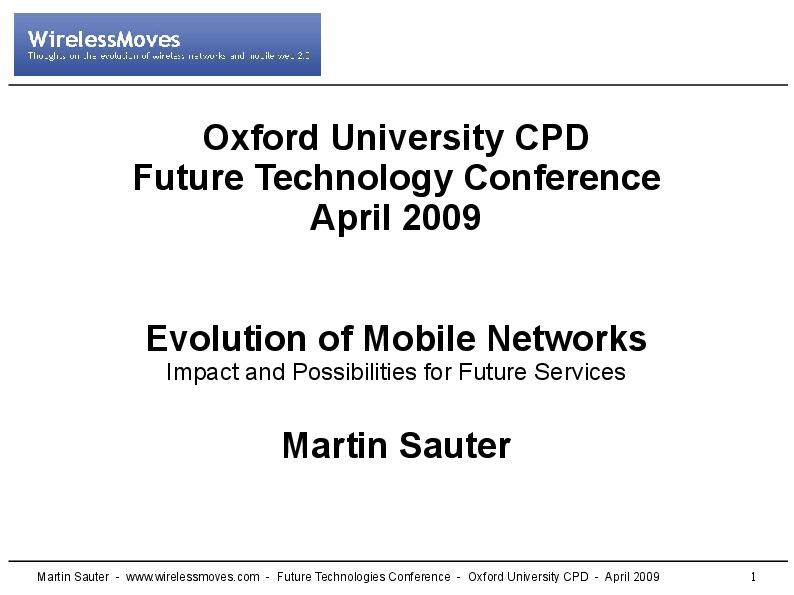subtitle: (126, 306, 686, 487), (109, 103, 699, 246), (29, 563, 776, 587)
title: (22, 17, 326, 76)
